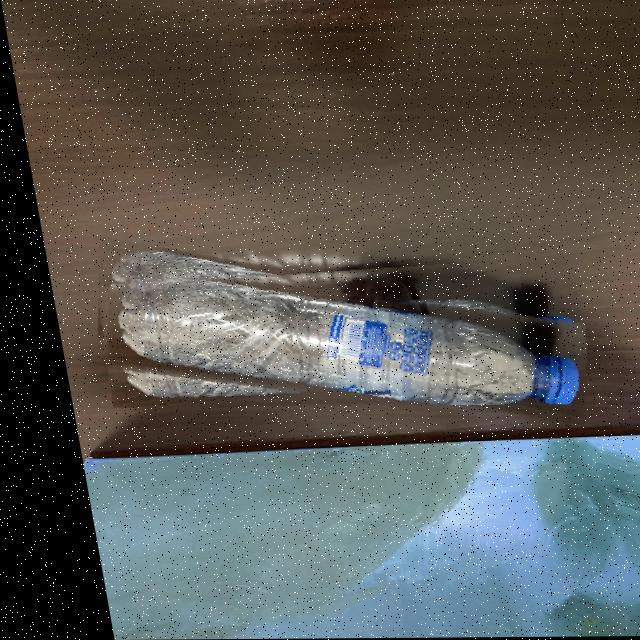plasticbottle: (75, 256, 581, 408)
